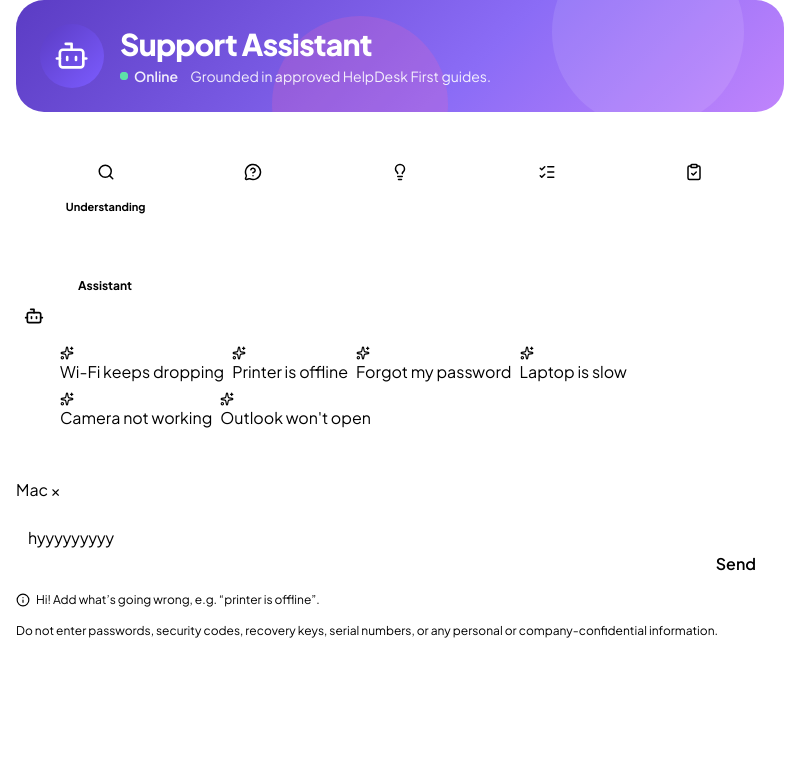
Scenario: AssistantWorkspace › answers a greeting warmly with example problems instead of matching
Click the button "Send": (736, 564) [688,542,784,586]
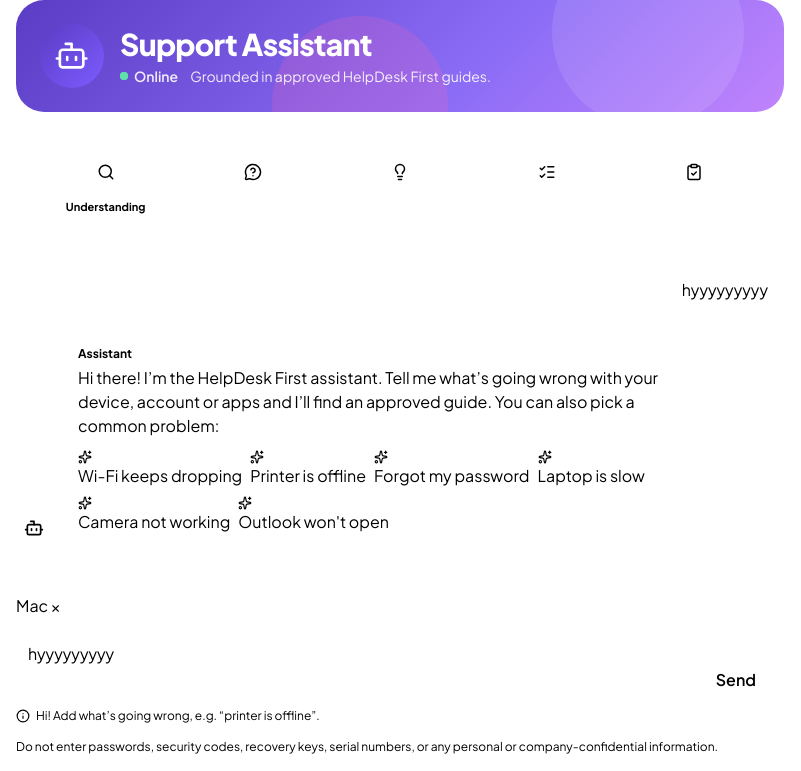
Expected: the button "Printer is offline" is shown, [250,450,366,488]
Result: the text "Hi there! I’m the HelpDesk First assistant" is shown at [78,367,658,436]
